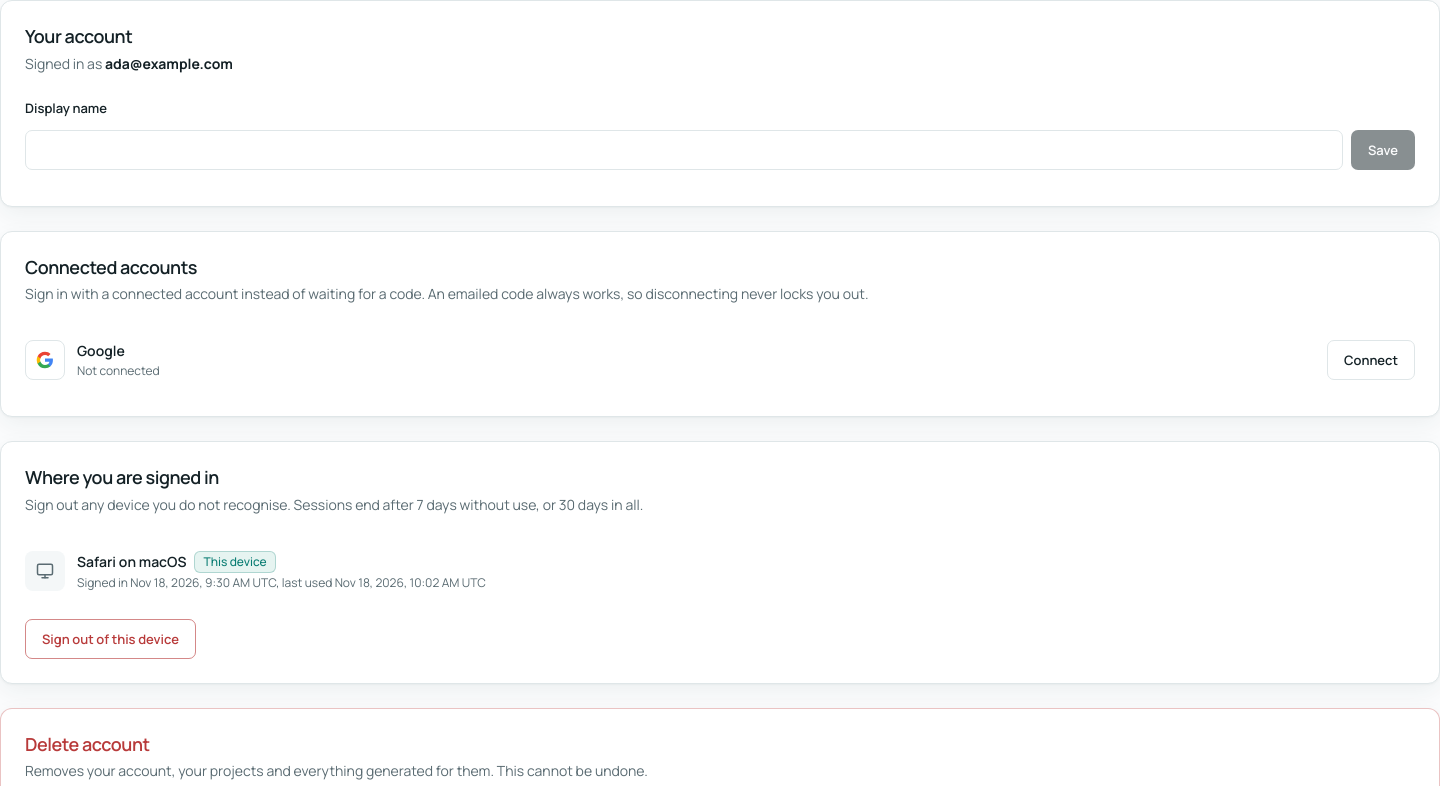
it: AccountView: connected accounts › shows a connect failure (conflict) and stays on the page
Step 1. Click the button with aria-label "Connect Google" → (1371,360), box [1327, 340, 1415, 380]
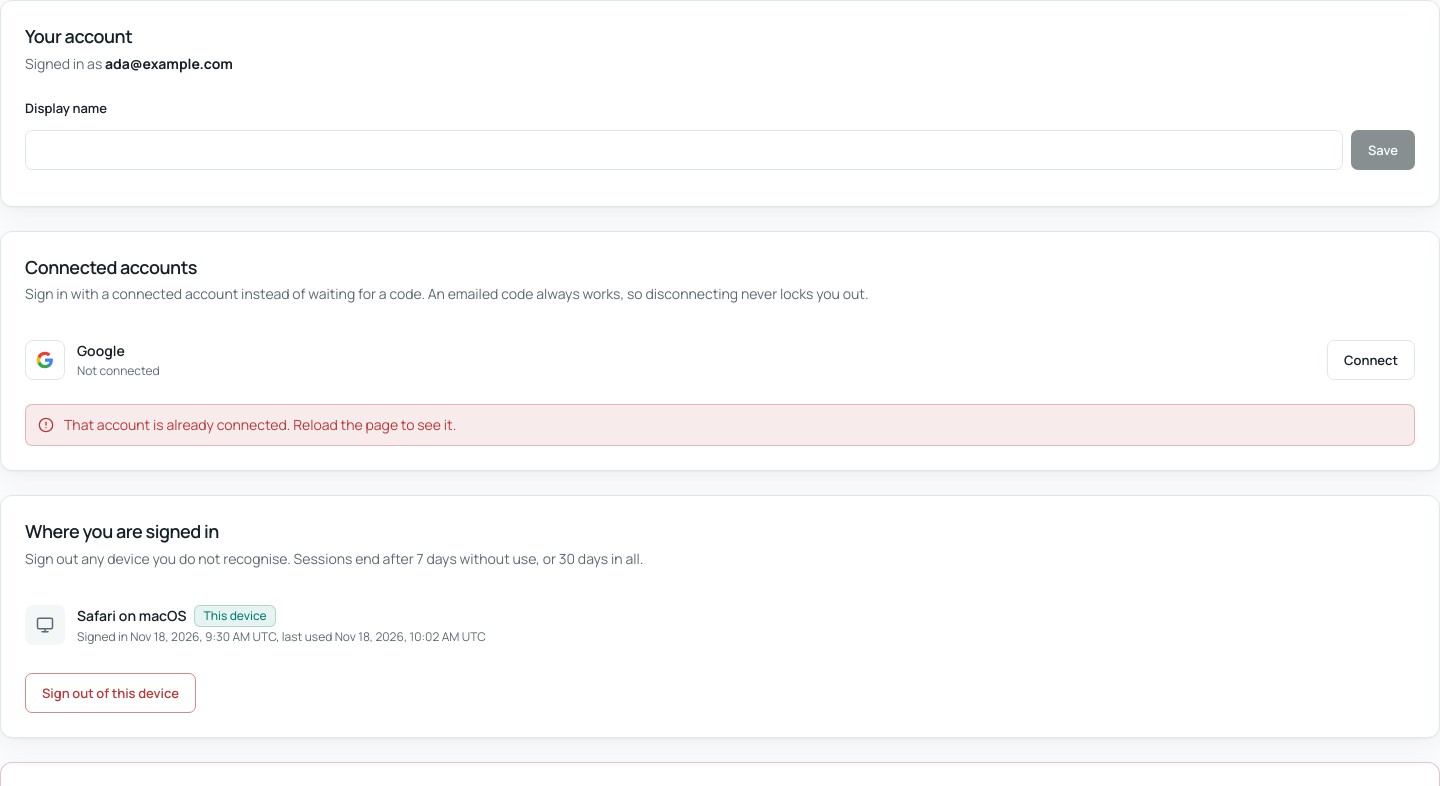
Expected: the message shows "already connected", [64, 415, 456, 434]
